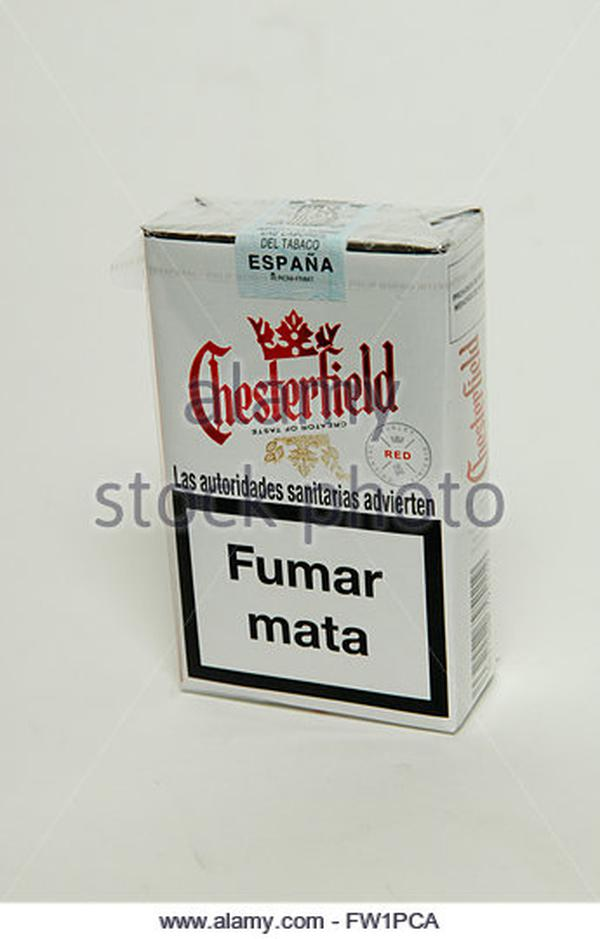chesterfield_red: (179, 236, 445, 691)
